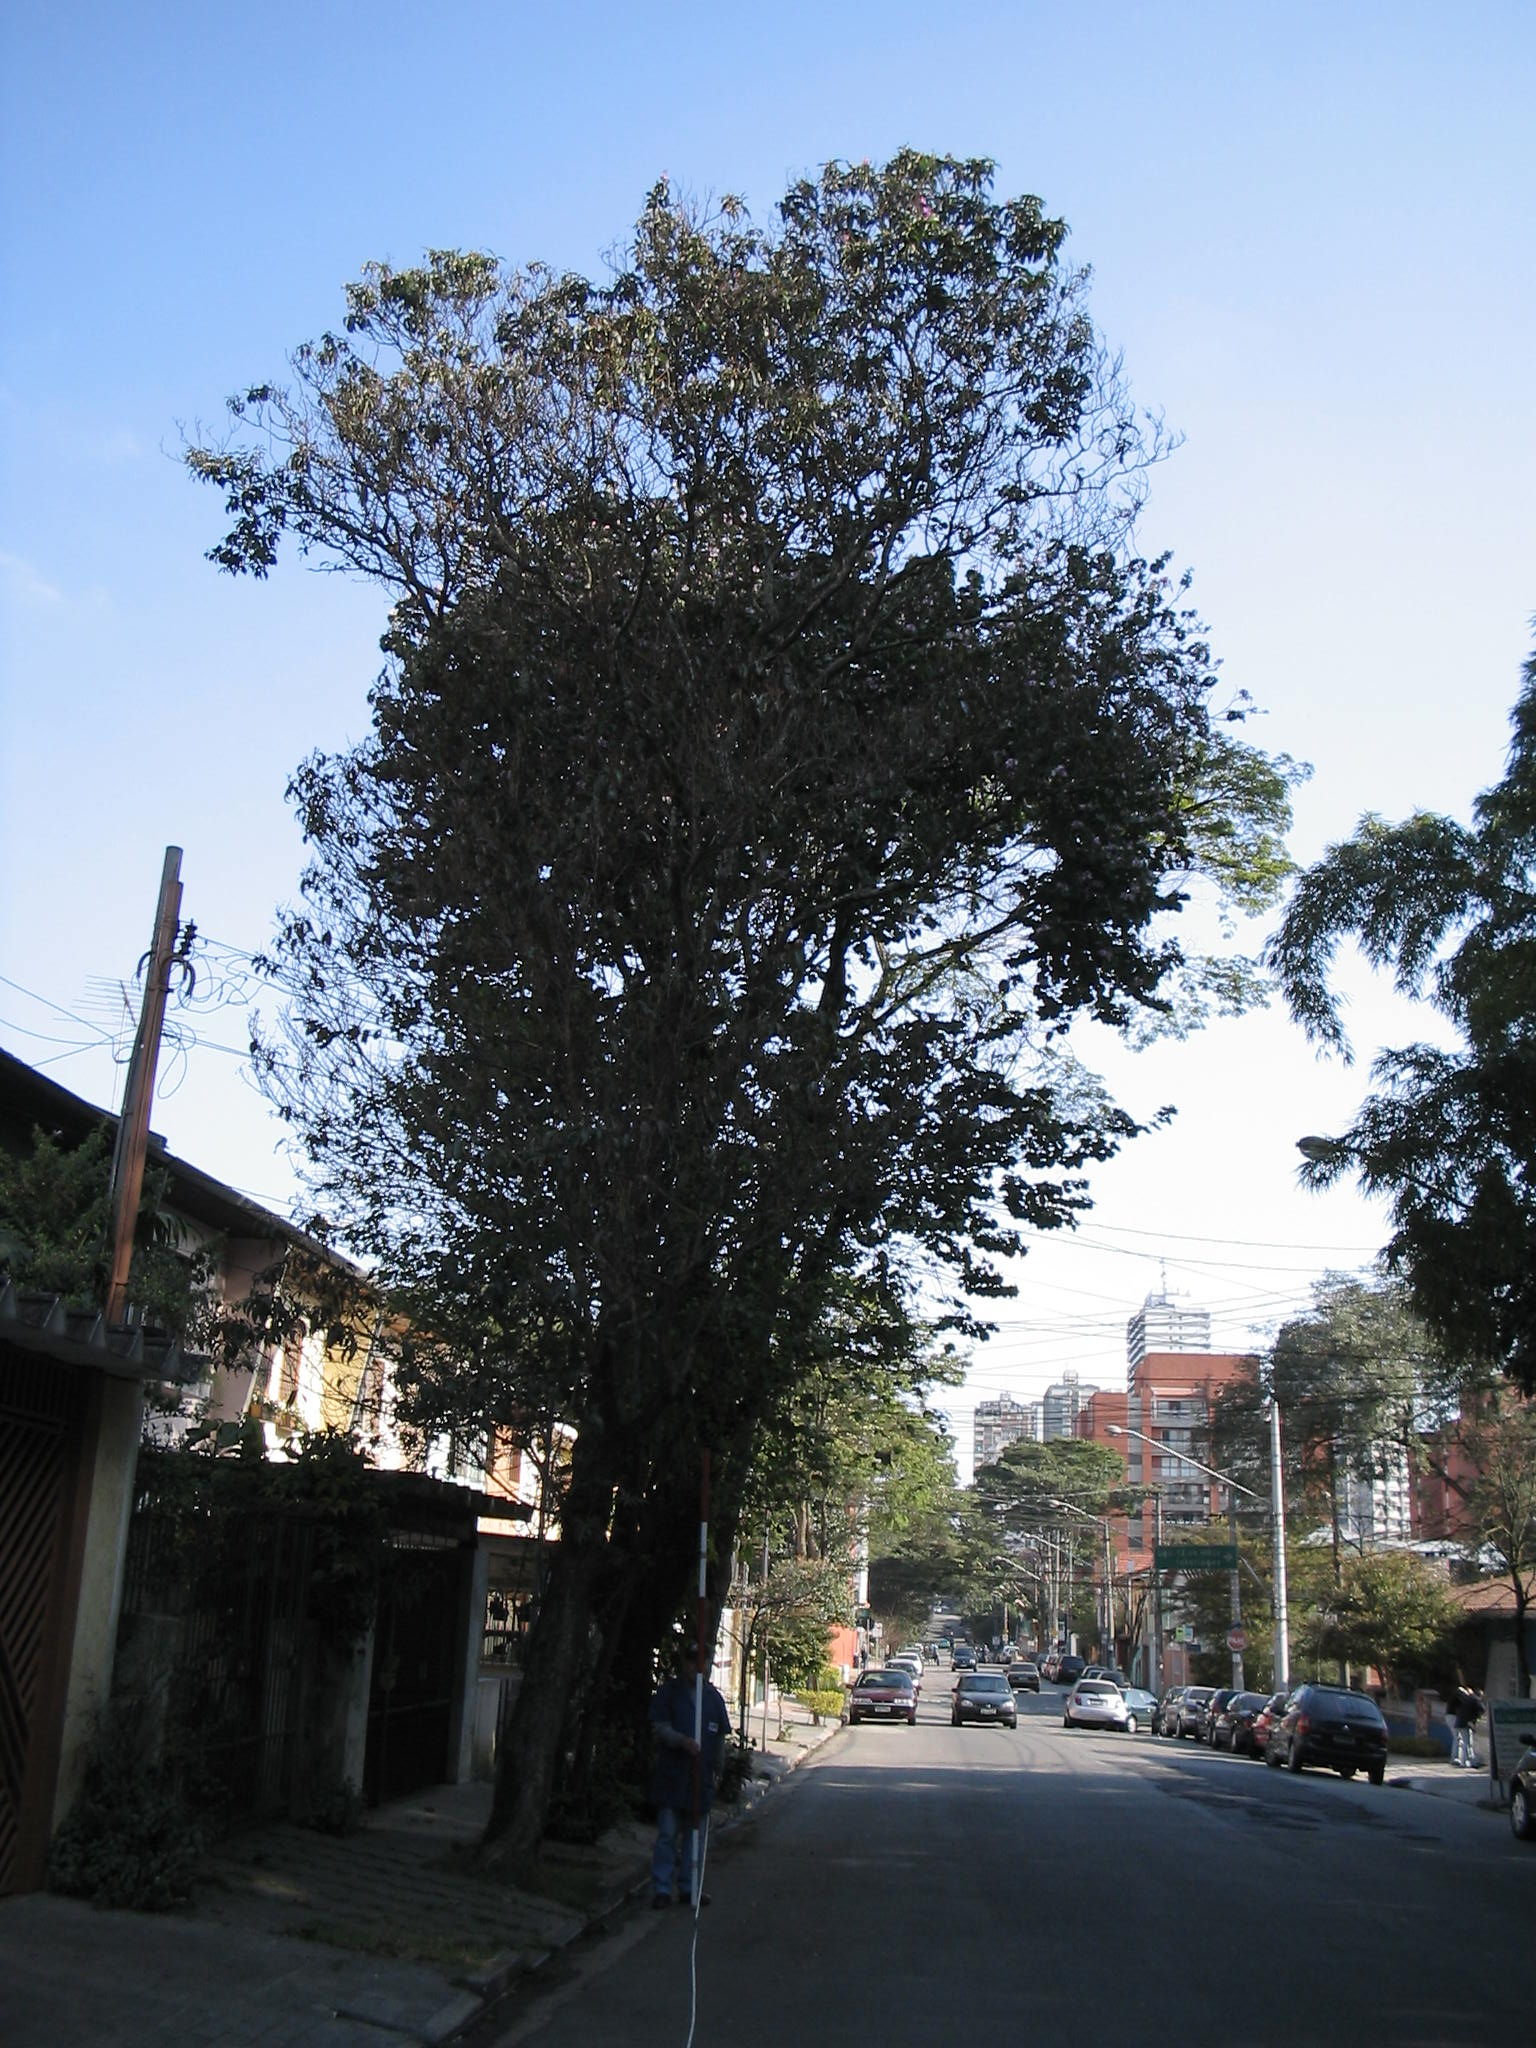crown: (182, 139, 1250, 1093)
stem: (471, 1427, 634, 1859)
stick: (674, 1455, 729, 1922)
tree: (174, 132, 1254, 1861)
